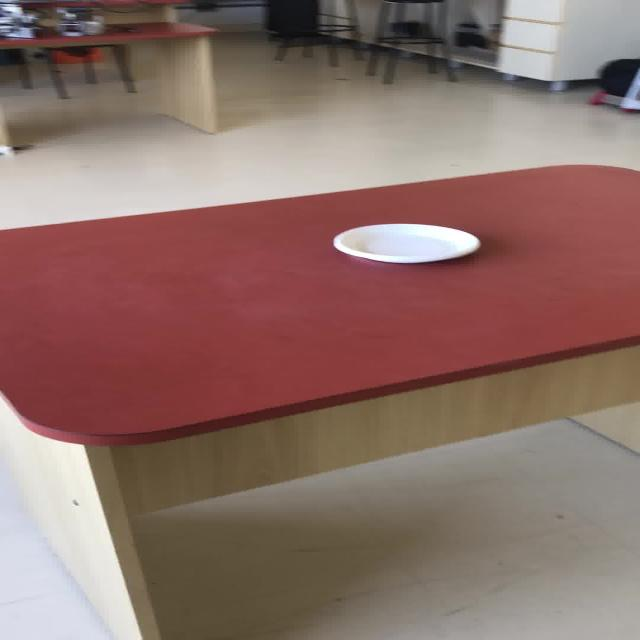plate: (331, 222, 480, 263)
